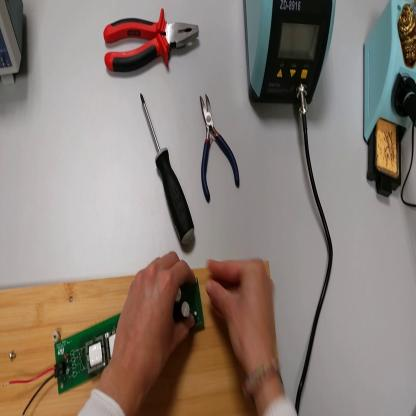hand: (114, 250, 199, 389), (206, 257, 282, 380)
high voltage board: (11, 276, 207, 413)
oscilloscope: (1, 2, 26, 89)
pliers: (104, 7, 198, 78), (200, 97, 242, 209)
screwdriver-: (141, 90, 197, 248)
welder base: (363, 2, 416, 202)
welder probe tip: (402, 81, 416, 126)
welder station: (245, 3, 337, 106)
working area: (1, 262, 280, 416)
